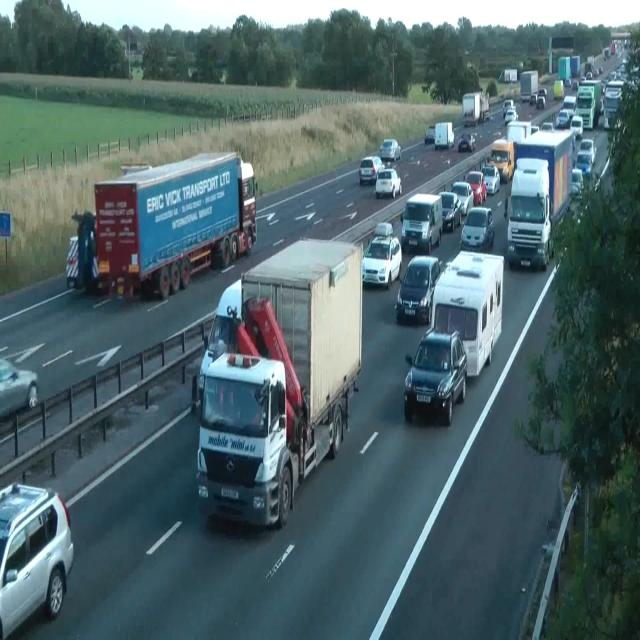bus: (395, 254, 441, 324), (0, 356, 38, 418), (362, 235, 402, 289), (558, 452, 582, 514), (541, 517, 569, 559), (438, 191, 462, 232), (450, 180, 474, 217), (375, 167, 402, 199), (358, 155, 384, 185), (465, 170, 487, 204), (480, 162, 500, 195), (379, 138, 401, 162), (574, 150, 592, 179), (578, 138, 596, 164), (457, 131, 476, 153), (529, 87, 547, 109), (571, 167, 583, 199), (555, 107, 572, 129), (570, 114, 584, 140), (373, 222, 393, 238), (562, 95, 576, 113), (504, 108, 518, 124), (424, 125, 435, 145), (503, 99, 515, 117), (540, 122, 554, 132)
jeep: (0, 480, 74, 637), (403, 328, 467, 425), (400, 192, 442, 252), (460, 205, 494, 250)
minibus: (192, 236, 364, 530), (65, 150, 258, 300), (504, 128, 576, 270), (425, 250, 504, 378), (487, 120, 539, 183), (574, 80, 602, 129), (462, 90, 490, 126), (603, 84, 624, 129), (506, 120, 539, 144), (520, 70, 538, 102), (434, 121, 454, 149), (558, 56, 572, 85), (498, 68, 518, 82), (553, 79, 564, 99)
